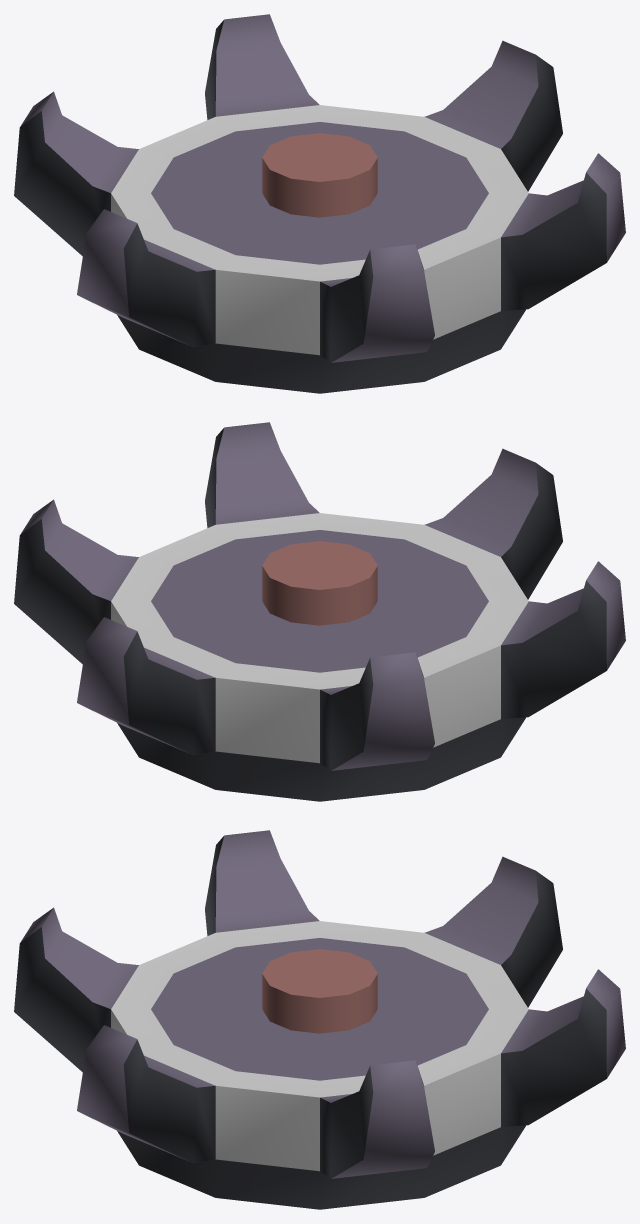
Rendered from LandMine UVed.fbx.
3 renders of one model, top to bottom at view 1: azimuth 30°, elevation 25°; view 2: azimuth 150°, elevation 25°; view 3: azimuth 270°, elevation 25°, orthographic.
Visible parts, largest first — view 1: pCylinder1; view 2: pCylinder1; view 3: pCylinder1.
Boxes of the visible parts, x1,y1,x2,y2 form: pCylinder1: [14, 14, 625, 393]; pCylinder1: [14, 422, 625, 801]; pCylinder1: [14, 830, 625, 1209].
Size of the model in its own units: 293 by 91.7 by 293.
